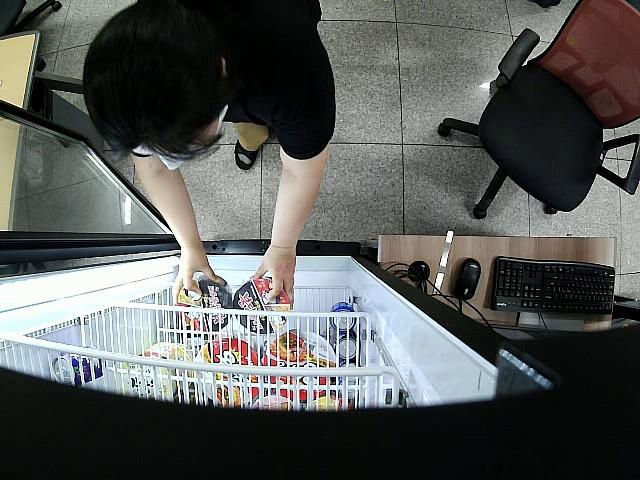00_hand: (250, 250, 295, 308), (172, 257, 221, 305)
07_buldak_L: (233, 274, 289, 333), (178, 274, 231, 332)
